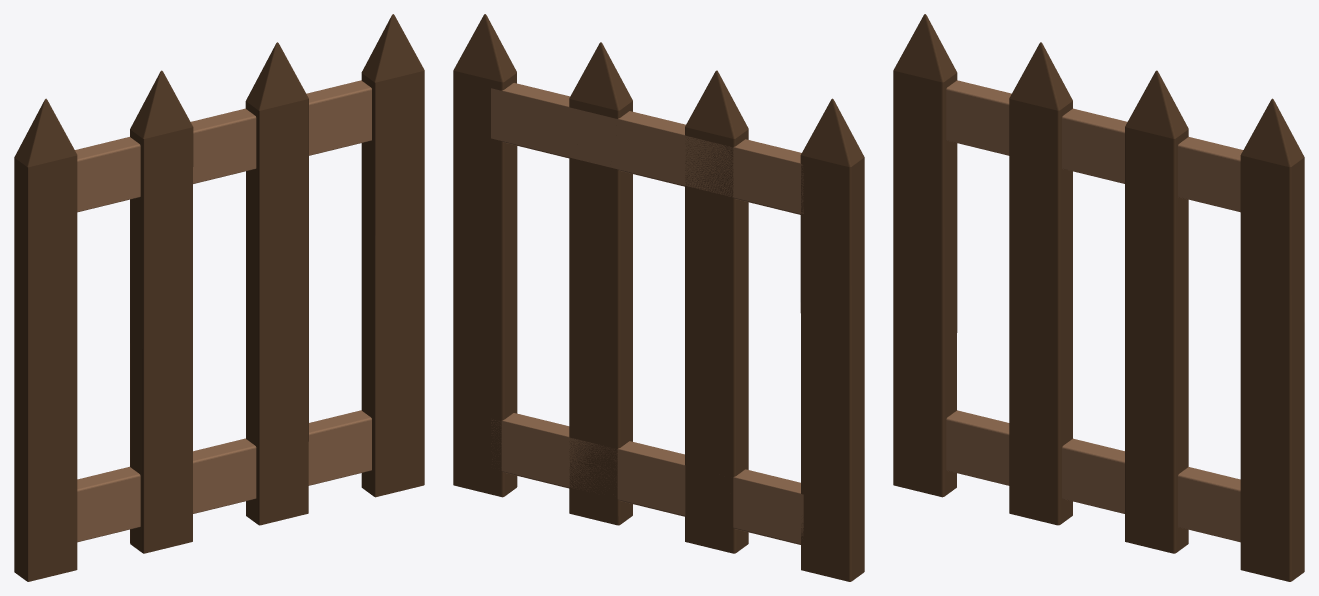
File: fence.fbx
3 views of the same model, side by side, from view 1: azimuth 30°, elevation 25°; view 2: azimuth 150°, elevation 25°; view 3: azimuth 330°, elevation 25° (orthographic).
Parts seen in each view (by area): view 1: Plane.001, Plane.003, Plane.002; view 2: Plane.001, Plane.002, Plane.003; view 3: Plane.001, Plane.002, Plane.003.
Part boxes in pixels (x1,y1,x2,y2): Plane.001: [14, 14, 424, 581]; Plane.003: [77, 410, 371, 542]; Plane.002: [75, 80, 371, 212]; Plane.001: [453, 14, 864, 581]; Plane.002: [491, 83, 803, 214]; Plane.003: [491, 413, 803, 544]; Plane.001: [893, 14, 1304, 581]; Plane.002: [946, 80, 1243, 212]; Plane.003: [946, 410, 1240, 542].
Size of the model in its own units: 201 by 228 by 12.49.
